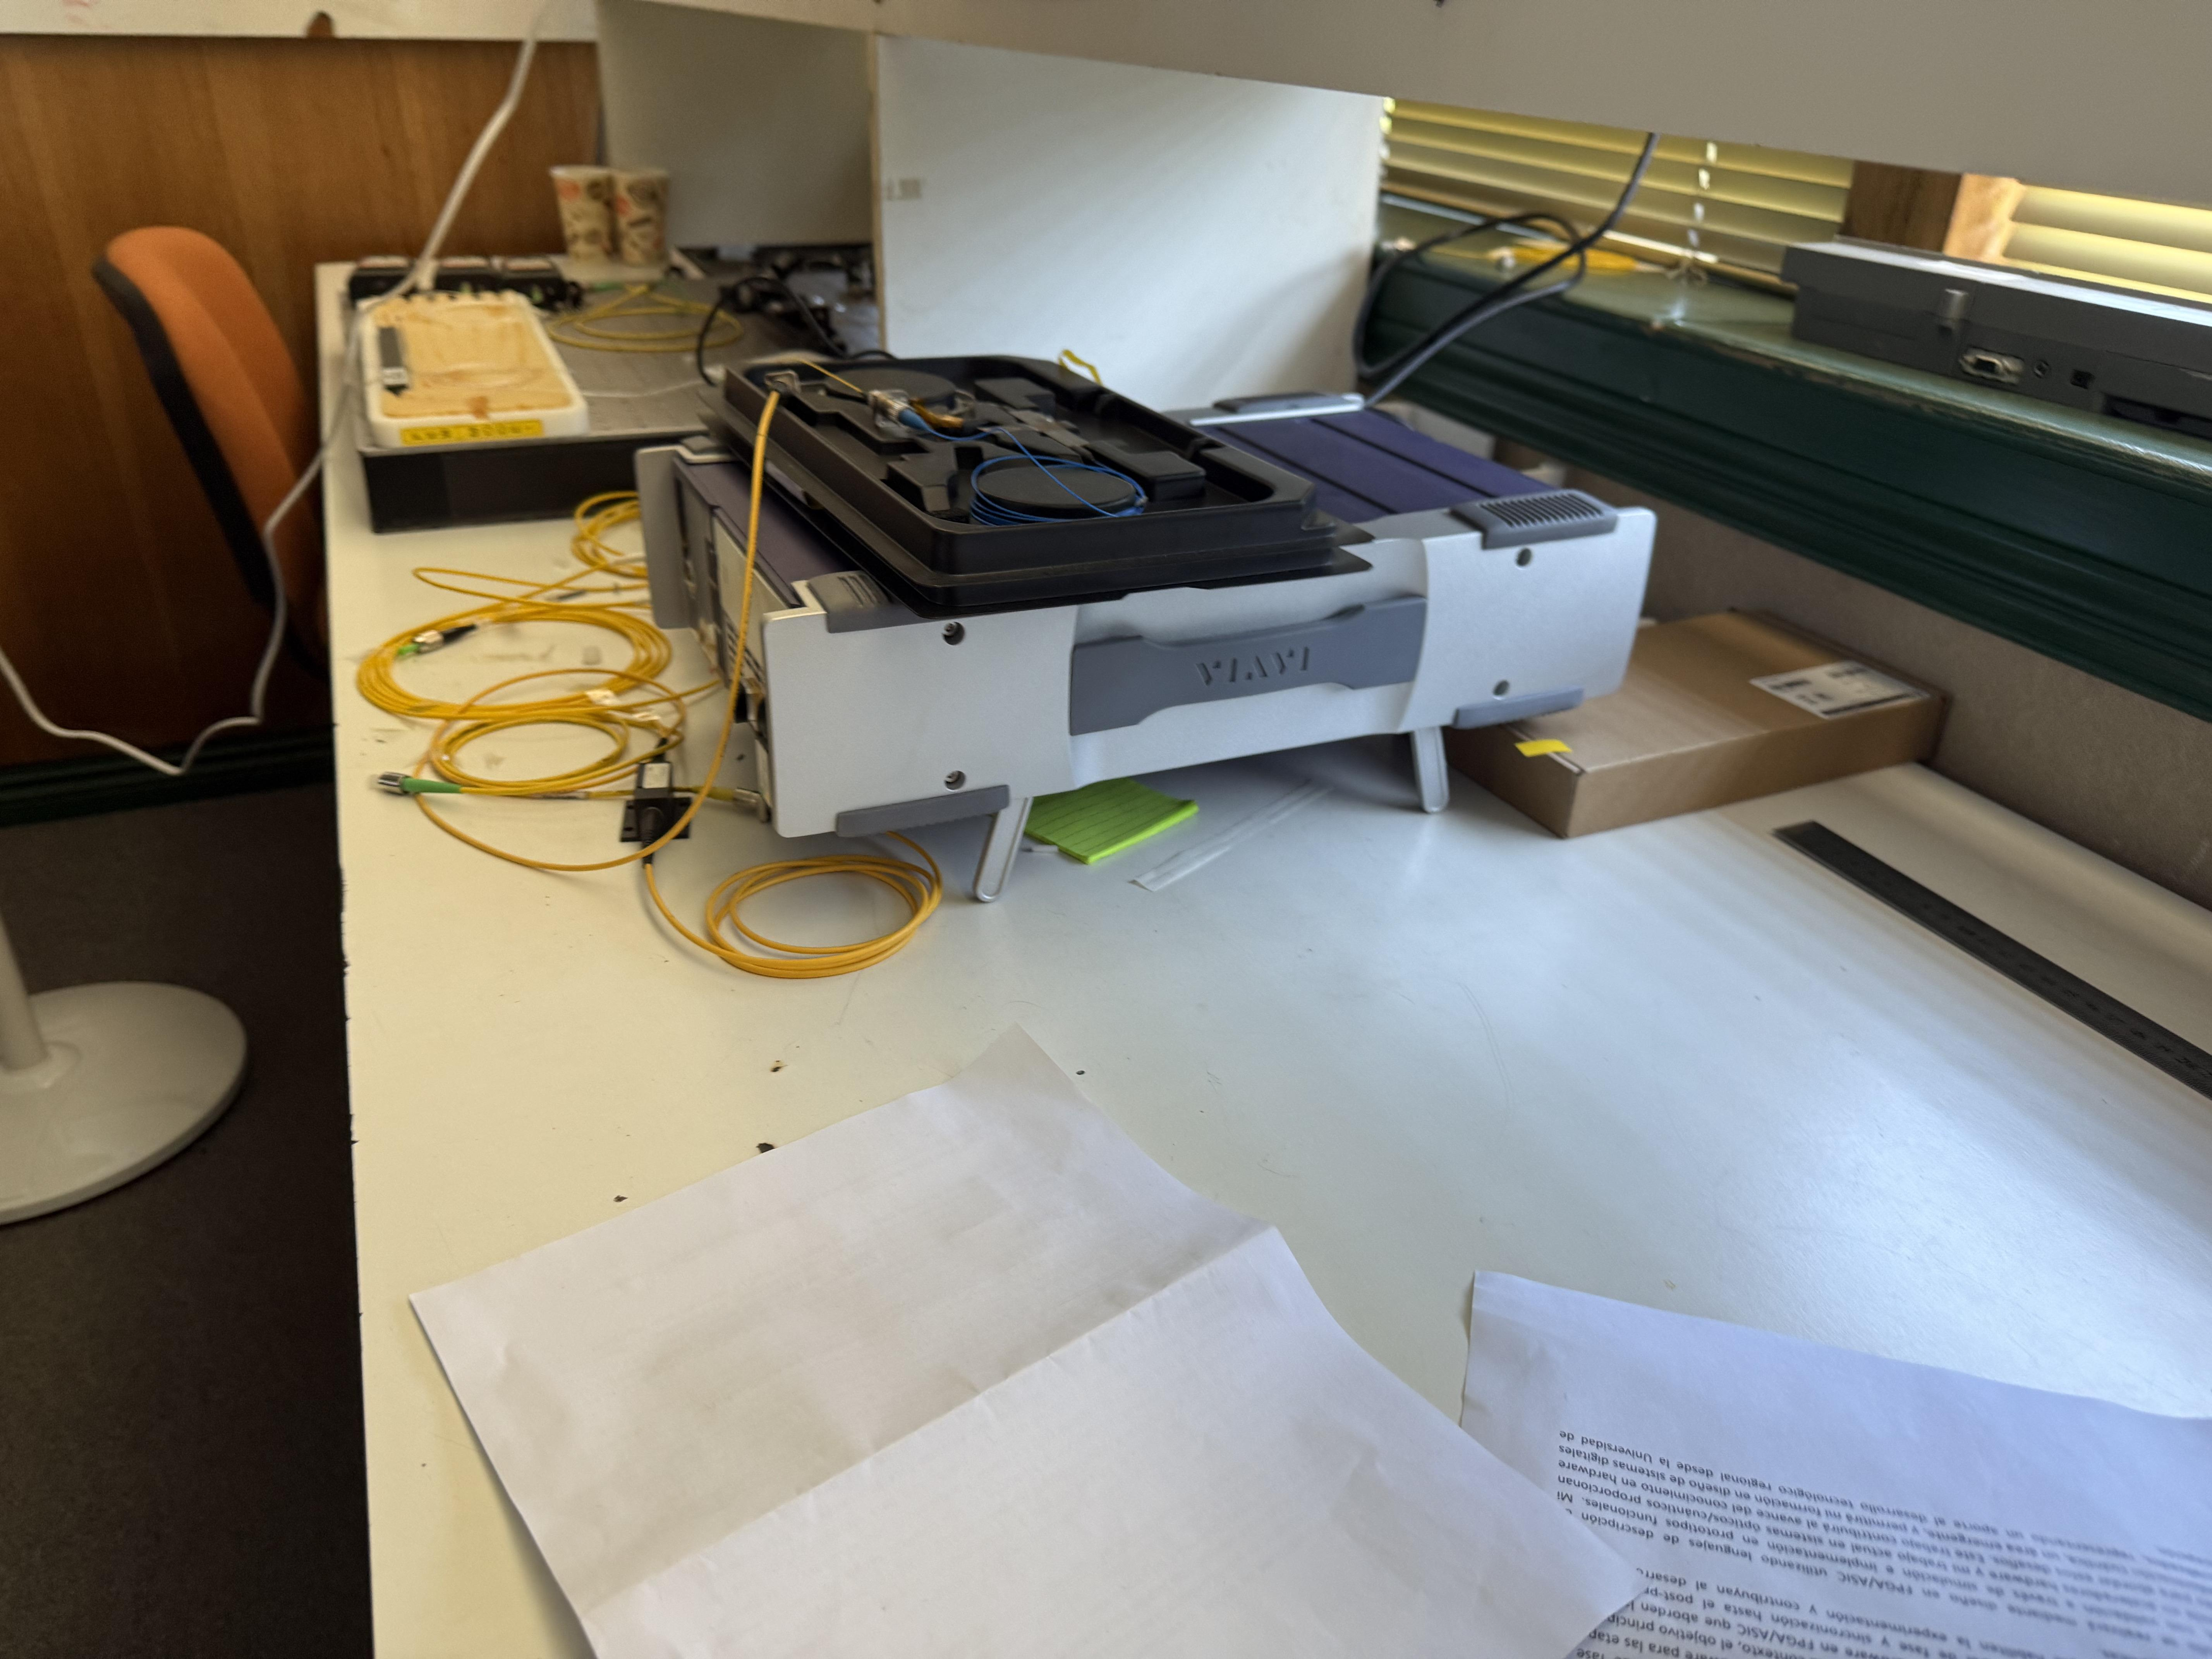laser: (622, 376, 1704, 904)
